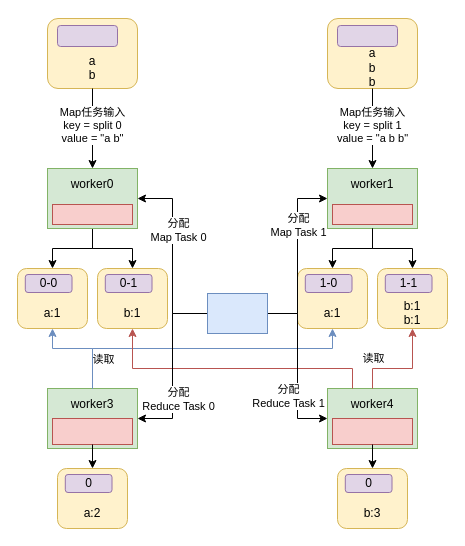
Image size: 465x546. Some labels were removed from this diagram. Here are the shapes that lost their labels. From the top down, the centre of each, then its label:
At pixel 87 35: "split 0".
At pixel 367 35: "split 1".
At pixel 92 214: "MapTask id:0".
At pixel 372 214: "MapTask id:1".
At pixel 237 313: "master".
At pixel 92 431: "ReduceTask id:0".
At pixel 372 431: "ReduceTask id:1".
